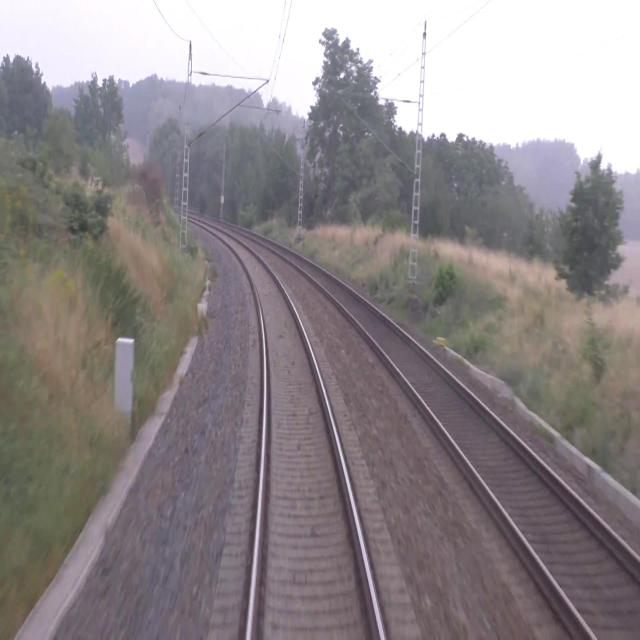rail-track: (191, 213, 640, 639), (188, 216, 380, 639)
